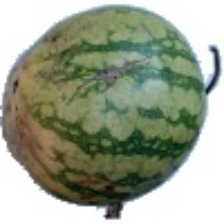watermelon: (20, 14, 196, 209)
